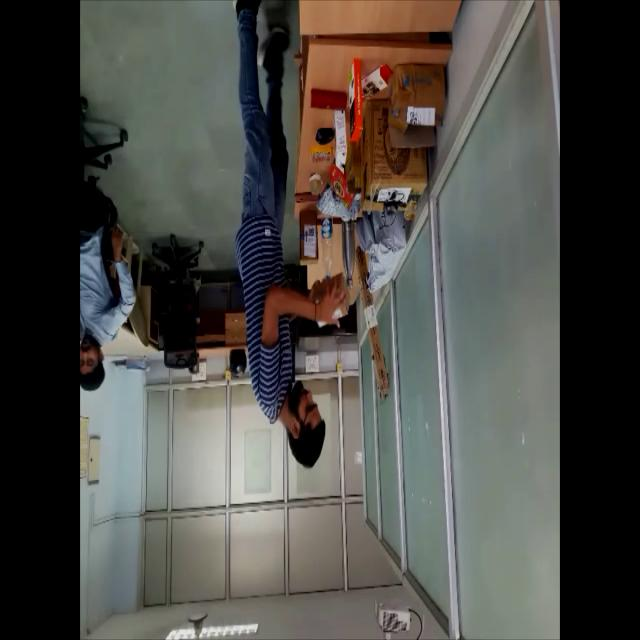normal: (233, 0, 345, 493)
